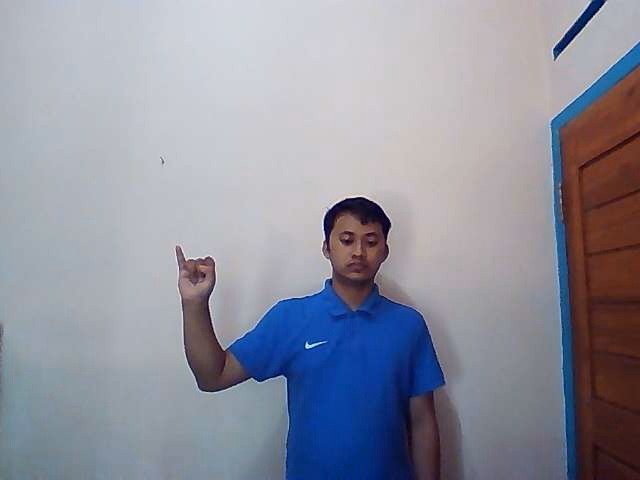I: (174, 245, 217, 299)
